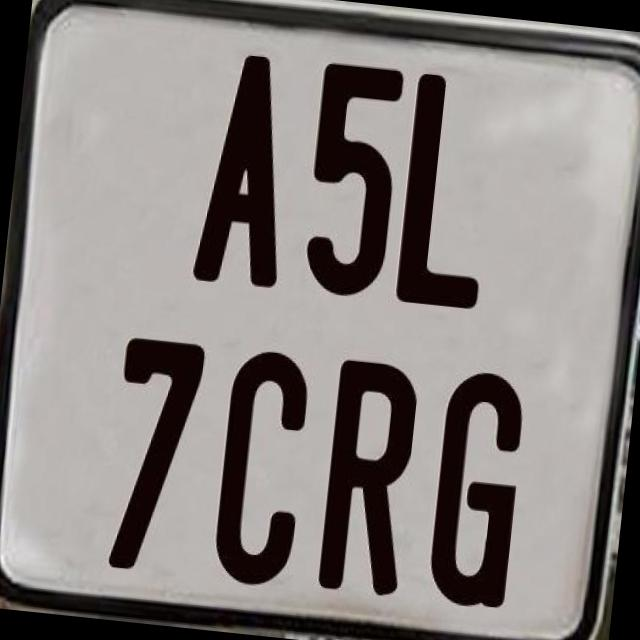5: (300, 61, 412, 306)
7: (98, 334, 204, 572)
A: (189, 49, 305, 288)
C: (210, 344, 320, 590)
G: (424, 369, 530, 616)
L: (389, 71, 504, 316)
